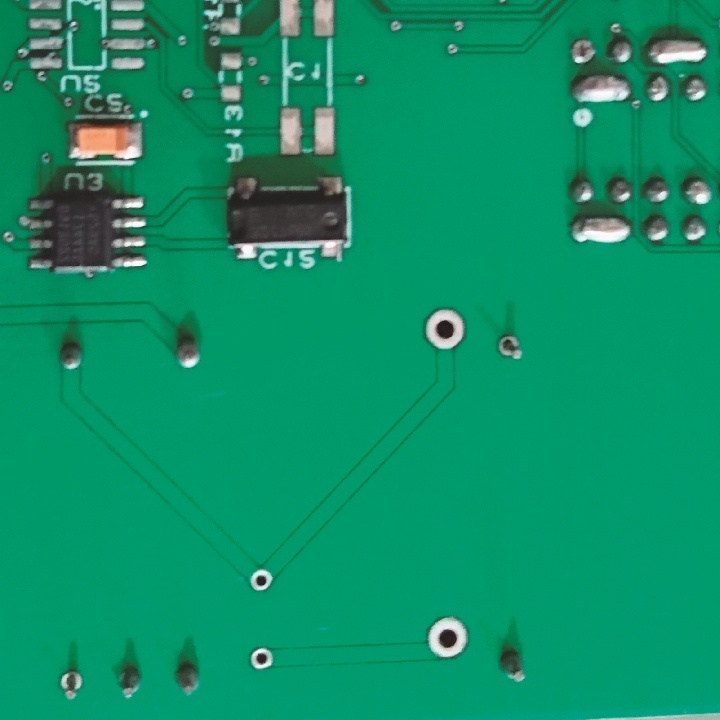F: (423, 303, 468, 354), (426, 613, 470, 660), (56, 667, 84, 705), (496, 328, 523, 363), (247, 640, 274, 673), (569, 36, 595, 68), (249, 567, 276, 595)
P: (567, 210, 633, 247), (647, 35, 711, 69), (571, 73, 634, 107)
